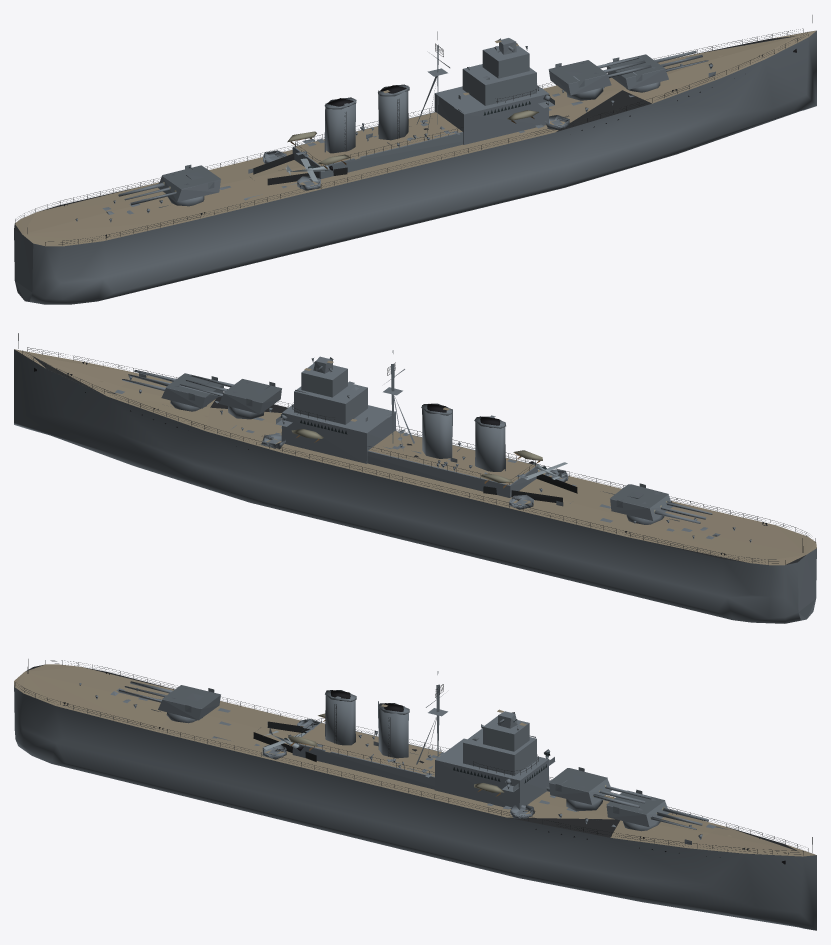
The model's file is new_orleans_lod.glb.
3 views of the same model, one above another, from view 1: azimuth 30°, elevation 25°; view 2: azimuth 150°, elevation 25°; view 3: azimuth 330°, elevation 25° (orthographic).
Visible parts, largest first — view 1: new_orleans_lod; view 2: new_orleans_lod; view 3: new_orleans_lod.
Part boxes in pixels (x1,y1,x2,y2): new_orleans_lod: (14,15,816,304); new_orleans_lod: (14,333,816,623); new_orleans_lod: (14,659,816,930).
Bounding box in the file's own units: 179 × 36.48 × 19.57.
